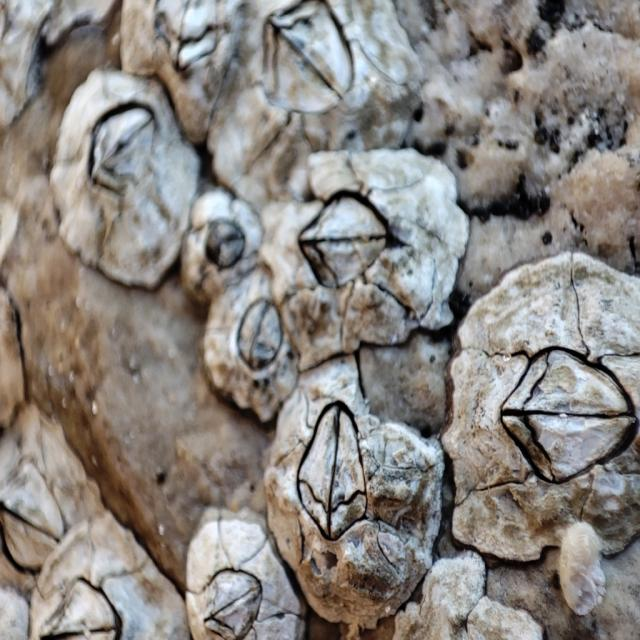barnacles: (455, 257, 635, 554), (258, 369, 448, 616), (274, 153, 450, 349), (49, 55, 183, 283), (242, 0, 420, 158), (1, 407, 103, 598), (31, 508, 165, 640), (182, 504, 296, 640), (120, 0, 238, 130), (207, 276, 303, 424), (177, 186, 265, 290)
